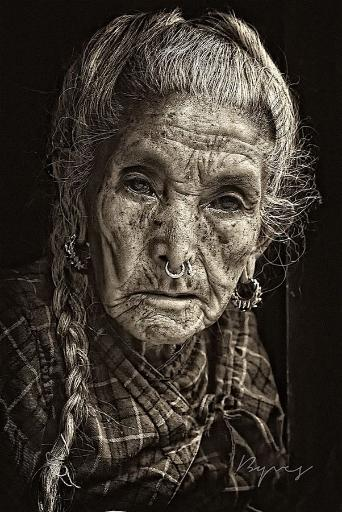left_eye: (210, 186, 249, 218)
left_lip_corner: (194, 293, 209, 313)
right_eye: (122, 171, 159, 202)
right_lip_corner: (136, 286, 157, 308)
